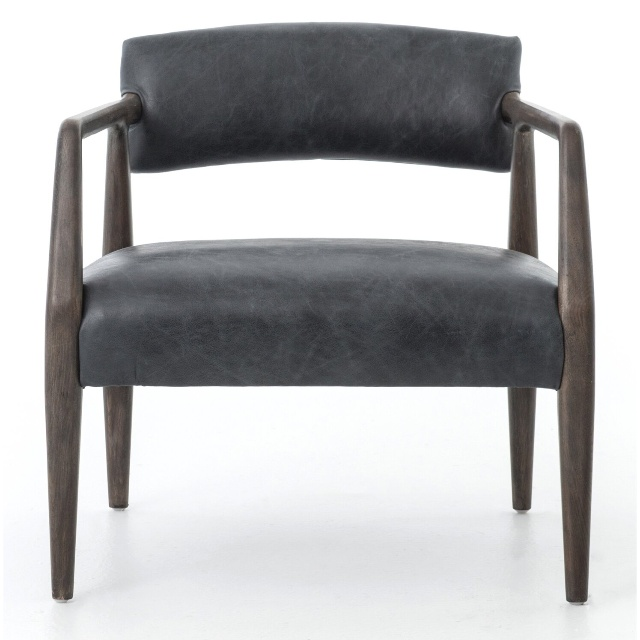obstacle: (45, 23, 594, 603)
